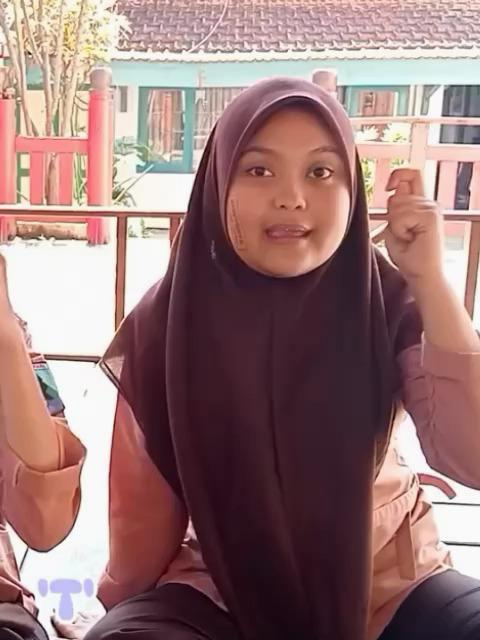T: (383, 167, 443, 273)
